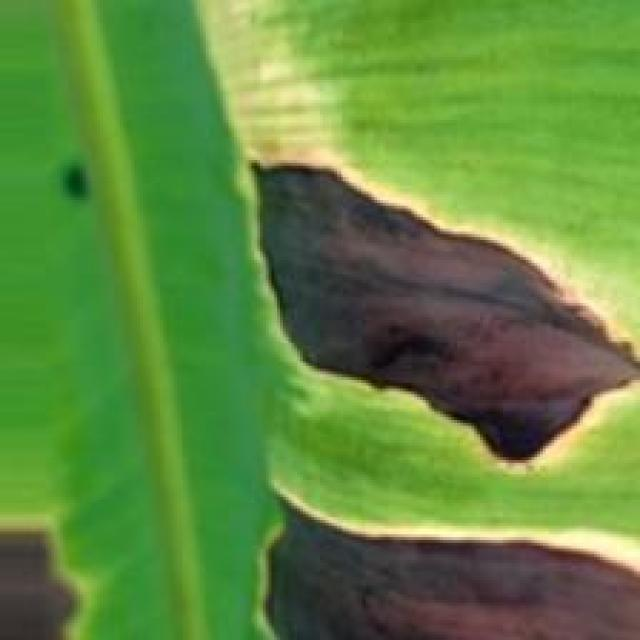Bacterial_spot: (230, 140, 640, 490), (226, 479, 640, 640), (0, 499, 107, 640)
